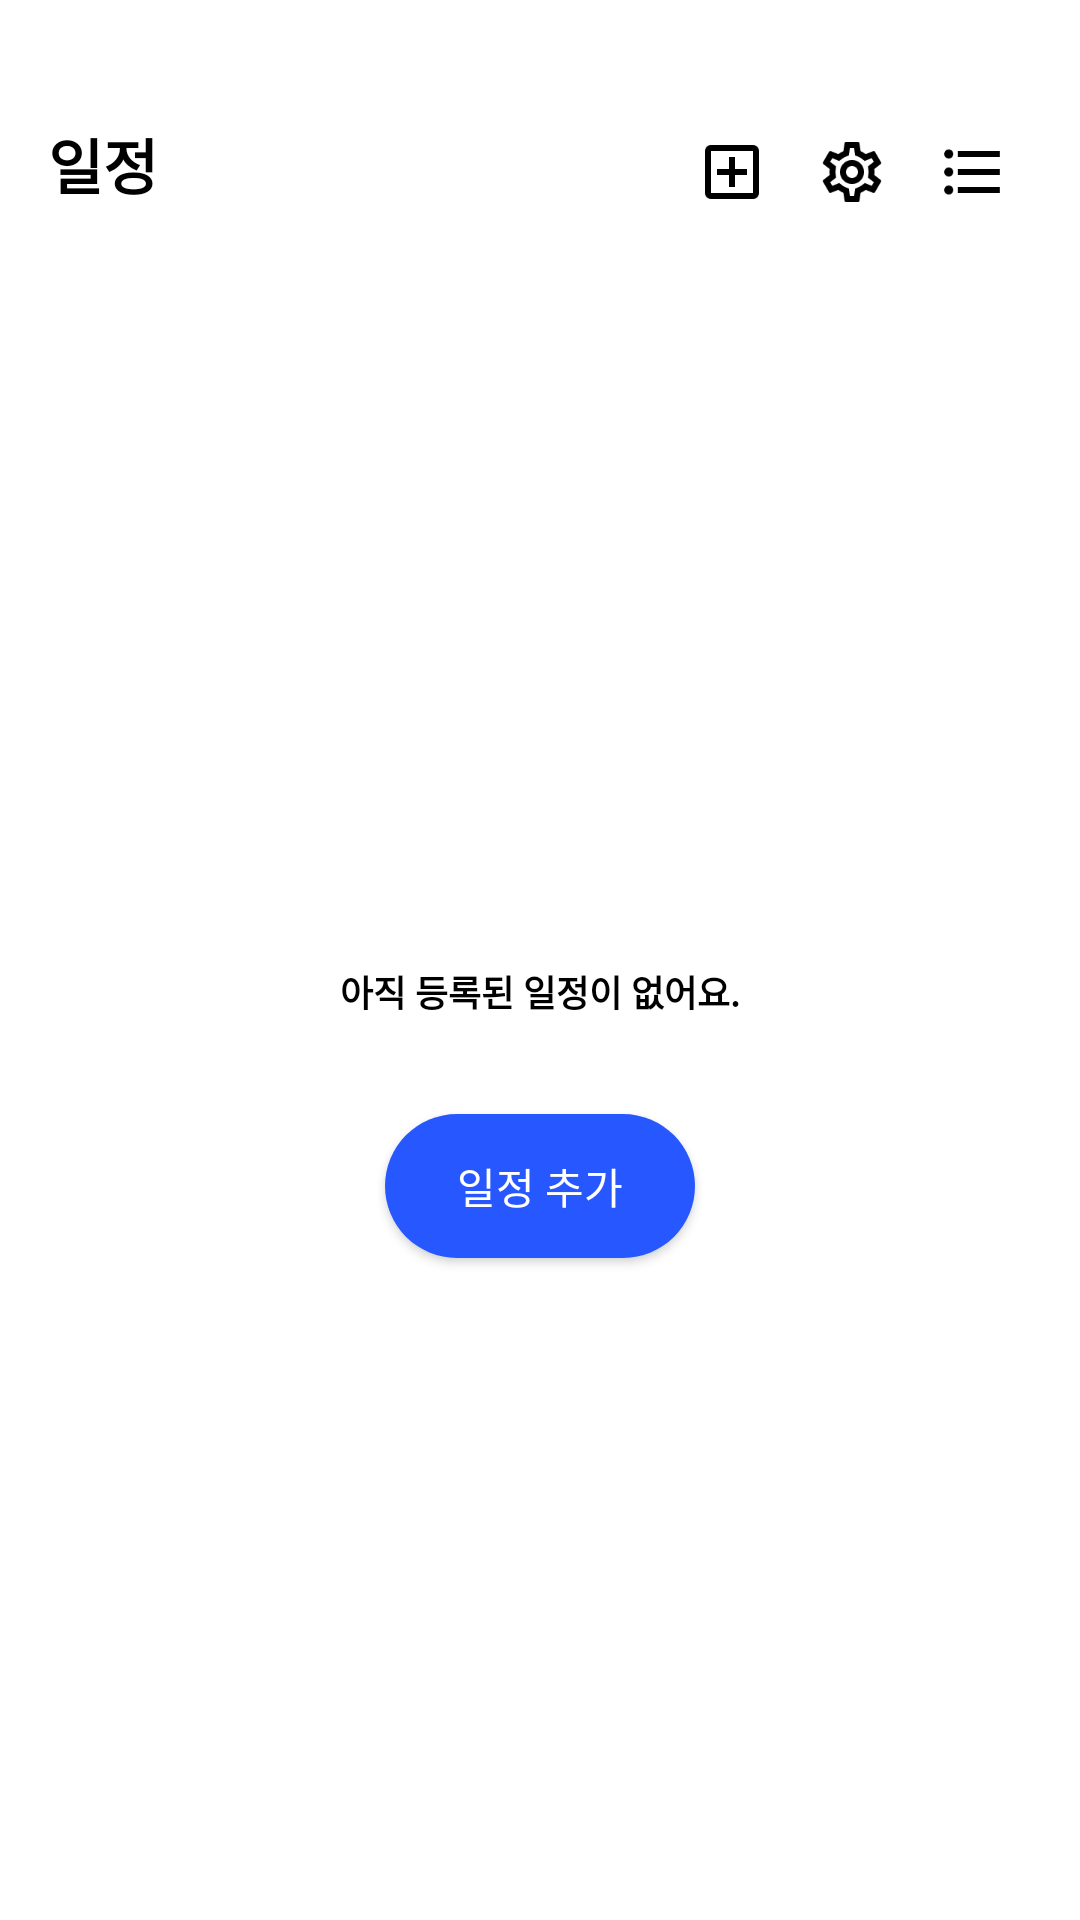

Screen size 1080×1920. Icon name, then its box in pixels as {"left": x1, "top": y1, "right": x2, "bottom": y2}:
addbox: {"left": 705, "top": 145, "right": 759, "bottom": 199}
list: {"left": 944, "top": 149, "right": 1000, "bottom": 195}
settings: {"left": 822, "top": 142, "right": 882, "bottom": 202}
